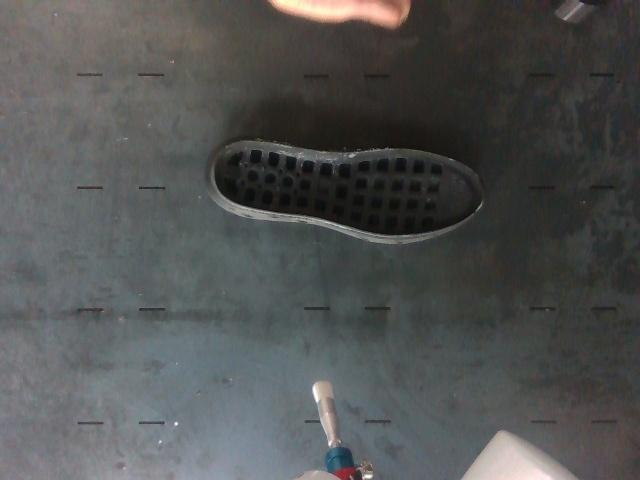shoes: (215, 142, 483, 235)
